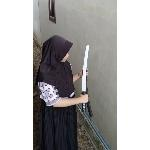Pedang: (78, 40, 94, 118)
